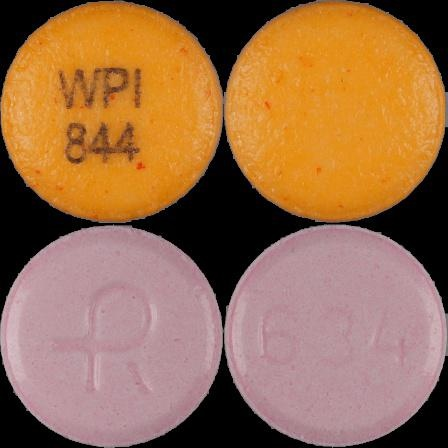0615-5585: (0, 0, 224, 224)
